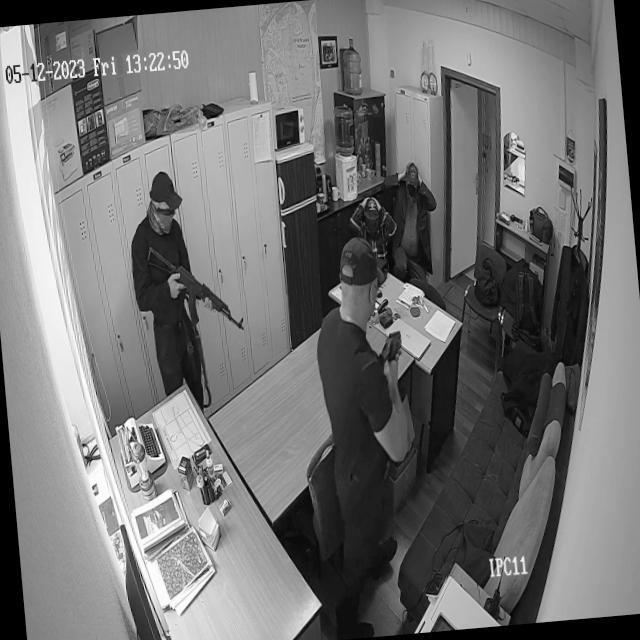gun: (144, 240, 248, 346), (373, 316, 408, 376)
person: (388, 134, 438, 232), (341, 186, 395, 250)
person with a gun: (313, 245, 425, 630), (123, 158, 220, 409)
